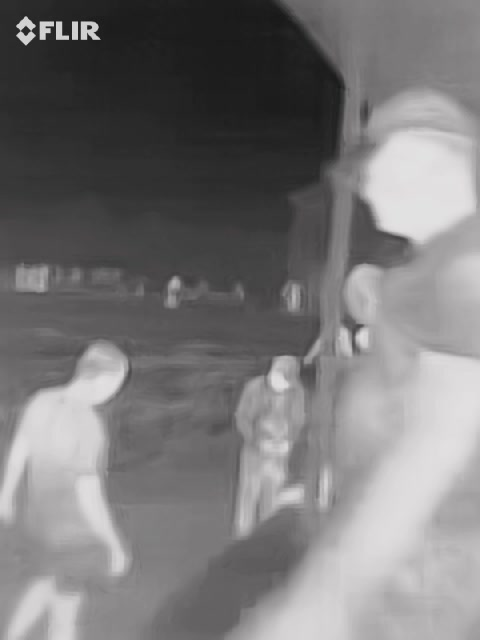head: (348, 83, 480, 246)
